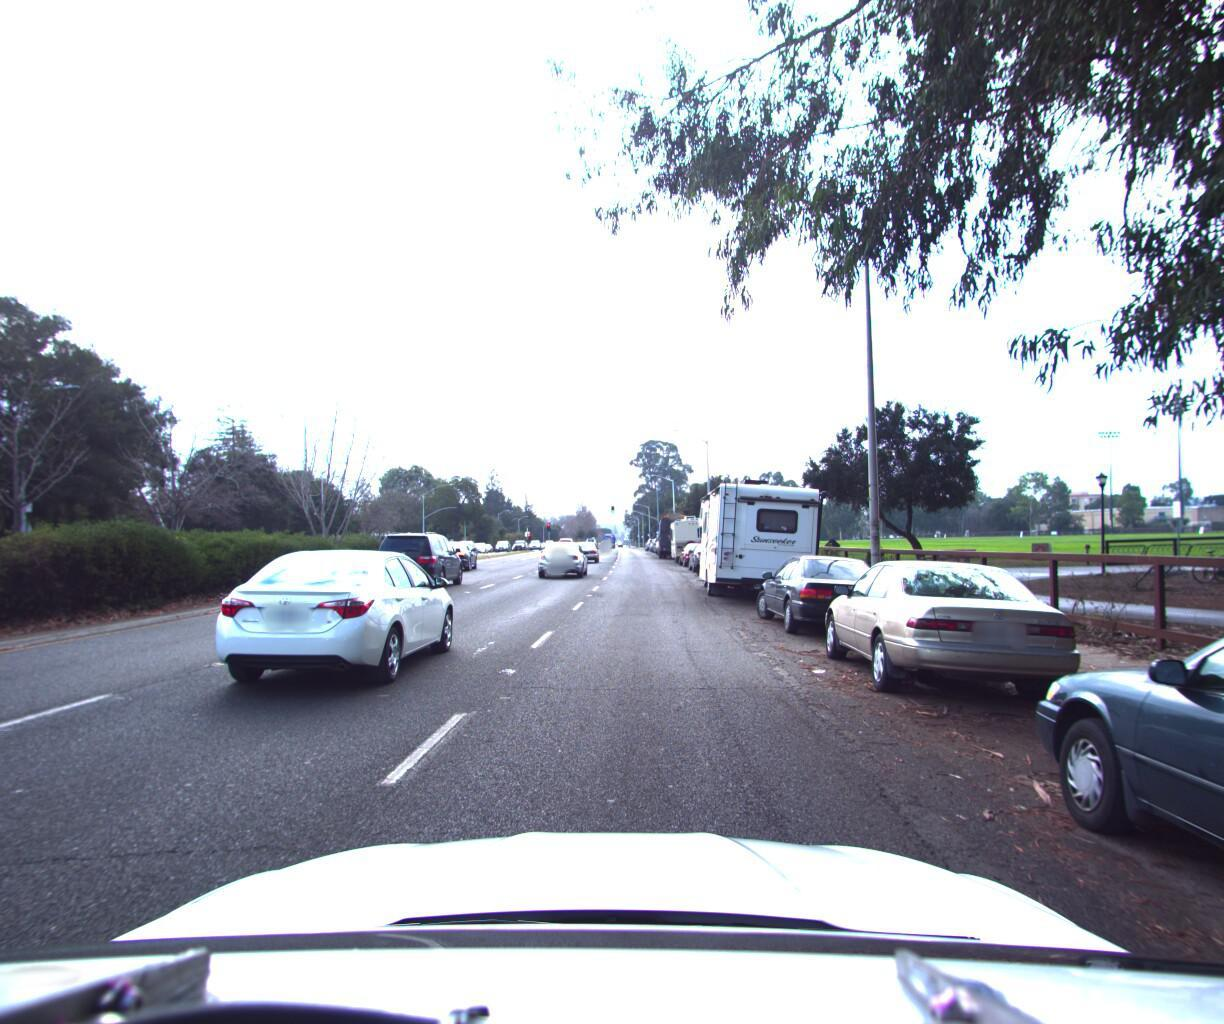bus: (655, 506, 693, 552)
car: (980, 557, 1224, 1024), (805, 547, 1103, 716), (188, 536, 466, 701), (746, 542, 900, 643), (368, 528, 472, 591), (532, 535, 590, 575), (430, 537, 481, 569), (684, 534, 731, 566), (675, 534, 714, 561), (568, 536, 599, 559)
other_vehicle: (687, 468, 830, 601), (666, 510, 715, 556)
